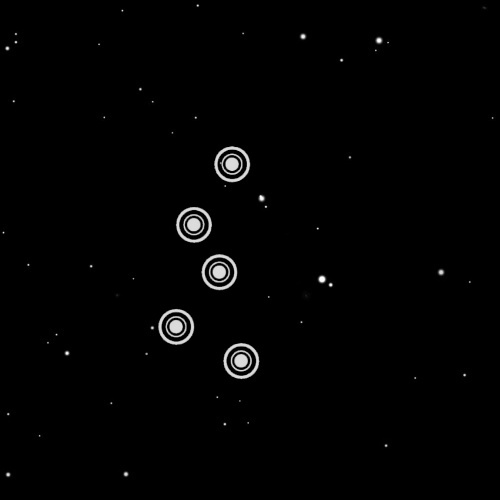cassiopeia: (151, 132, 270, 392)
